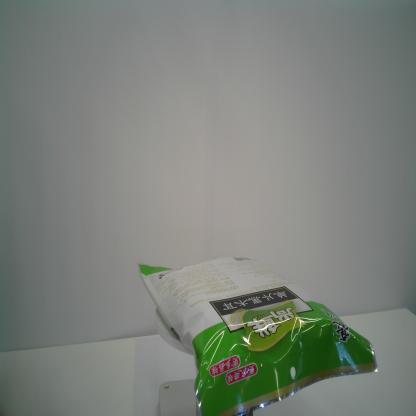Dried Food: (136, 254, 380, 415)
